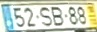2: (22, 5, 37, 27)
5: (12, 6, 25, 28)
8: (66, 5, 78, 25), (76, 5, 87, 25)
B: (50, 6, 64, 26)
S: (38, 5, 53, 27)
